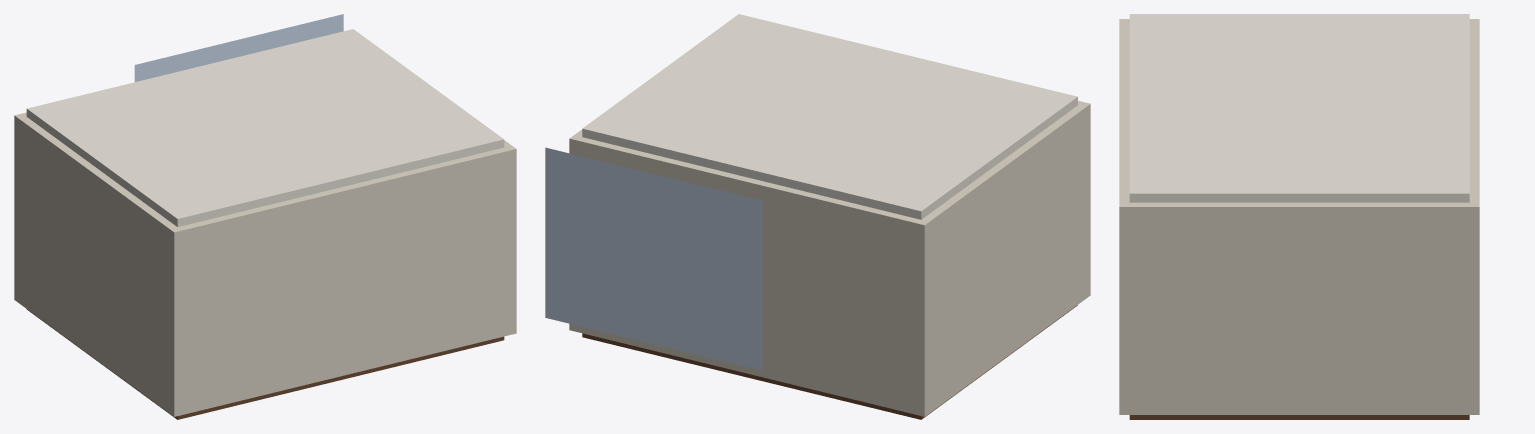
File: room.glb
3 views of the same model, side by side, from view 1: azimuth 30°, elevation 25°; view 2: azimuth 150°, elevation 25°; view 3: azimuth 270°, elevation 25° (orthographic). The views are drawn at different scales.
Visible parts, largest first — view 1: Room, EMIT_window; view 2: Room, EMIT_window; view 3: Room.
Part boxes in pixels (x1,y1,x2,y2): Room: [14, 29, 516, 419]; EMIT_window: [134, 14, 343, 81]; Room: [569, 14, 1090, 419]; EMIT_window: [545, 147, 762, 370]; Room: [1119, 14, 1479, 419].
Bounding box in the file's own units: 5.32 × 2.94 × 4.72.
